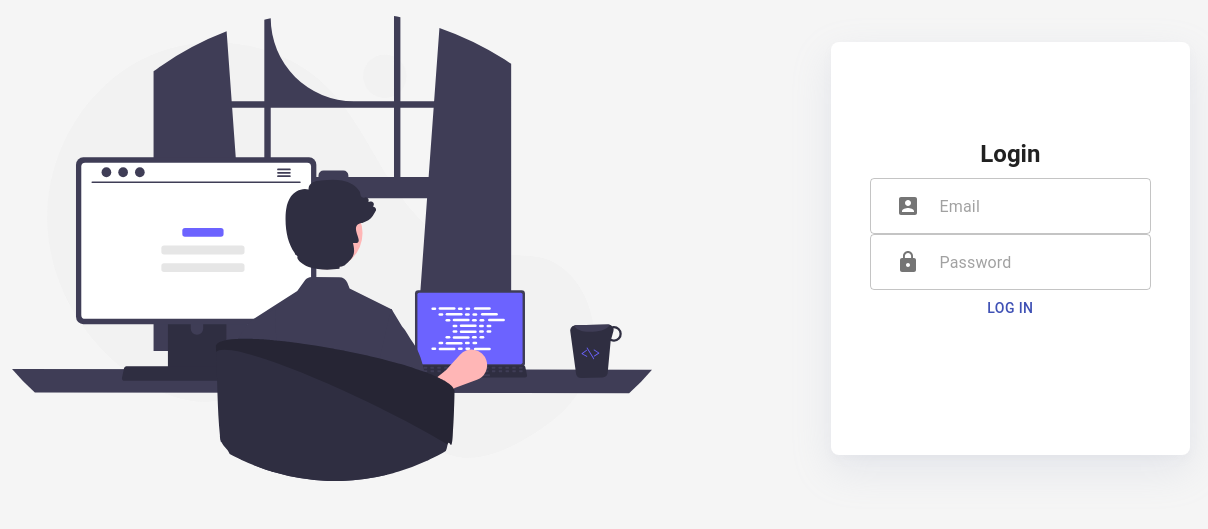
Test: User should be prompted when password is less than 8 characters
The image size is (1208, 529).
Type "test" into the element with test id "password" at (1010, 262), box 870,234 -> 1151,290
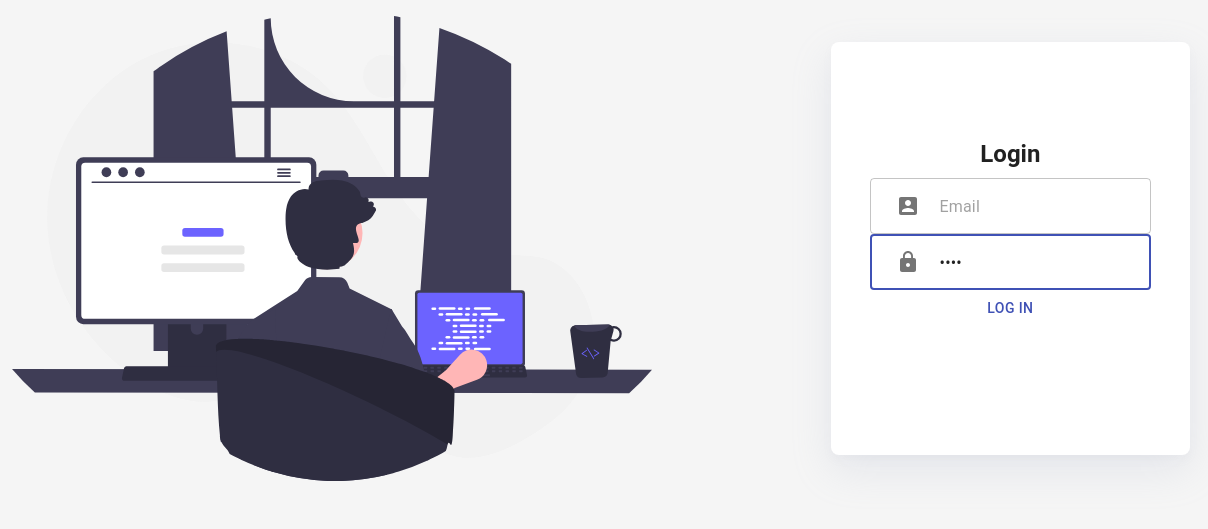
Click the button with test id "login-button" at (1010, 308), box 870,290 -> 1151,326
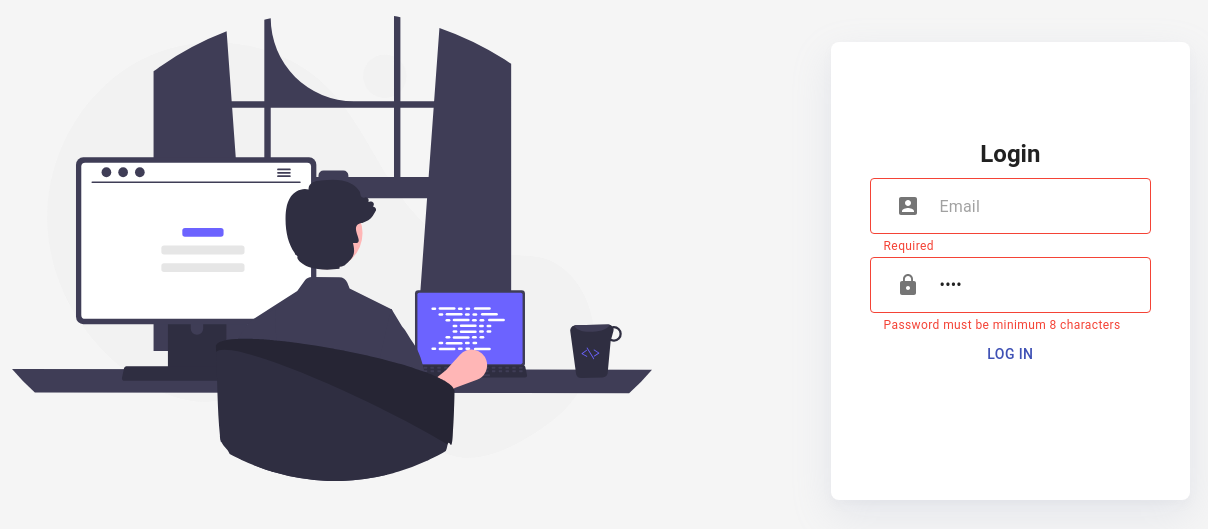
Result: the text "Password must be minimum 8 characters" is shown at 884,316 -> 1137,336
